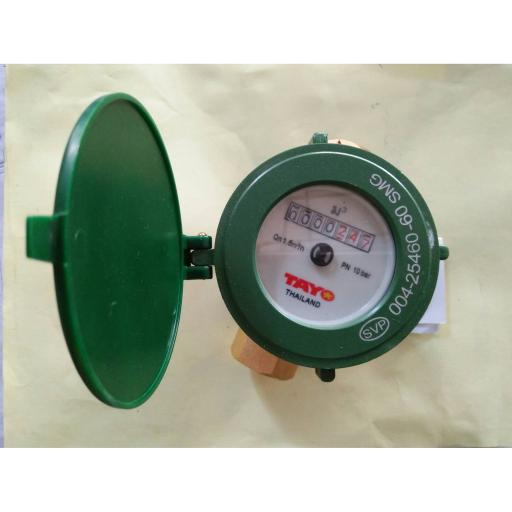0: (309, 212, 327, 232), (321, 217, 339, 237), (298, 208, 315, 228), (286, 203, 302, 222)
2: (334, 222, 351, 242)
4: (344, 227, 362, 247)
7: (356, 232, 374, 252)
border_water_meter_number: (284, 200, 376, 254)
